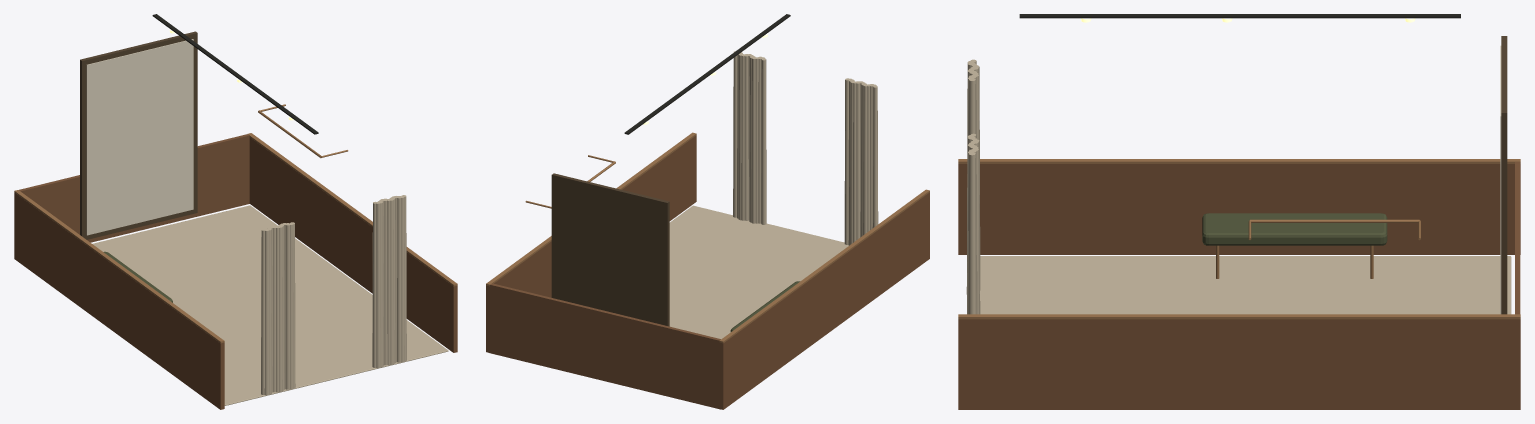
File: mf_room_fitting.glb
The picture shows the model from 3 angles, left to right: view 1: azimuth 30°, elevation 25°; view 2: azimuth 150°, elevation 25°; view 3: azimuth 270°, elevation 25°; orthographic projection. The views are drawn at different scales.
Visible parts, largest first — view 1: mf_room_fitting, fitting-occlusion; view 2: mf_room_fitting, fitting-occlusion; view 3: fitting-occlusion, mf_room_fitting.
Boxes of the visible parts, x1=… form: mf_room_fitting: x1=19, y1=14, x2=448, y2=405; fitting-occlusion: x1=14, y1=104, x2=457, y2=409; mf_room_fitting: x1=490, y1=14, x2=848, y2=409; fitting-occlusion: x1=486, y1=51, x2=929, y2=409; fitting-occlusion: x1=958, y1=59, x2=1520, y2=409; mf_room_fitting: x1=980, y1=14, x2=1520, y2=314.
Size of the model in its own units: 3.92 by 3.68 by 5.9.
